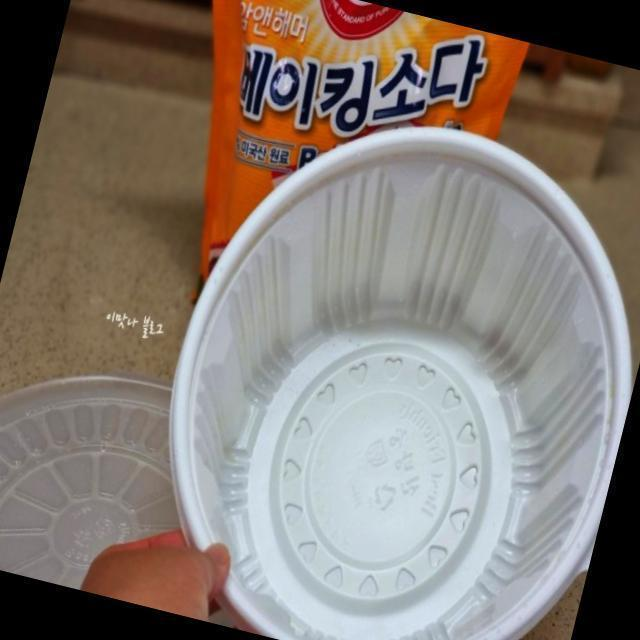disposable: (154, 120, 640, 635)
